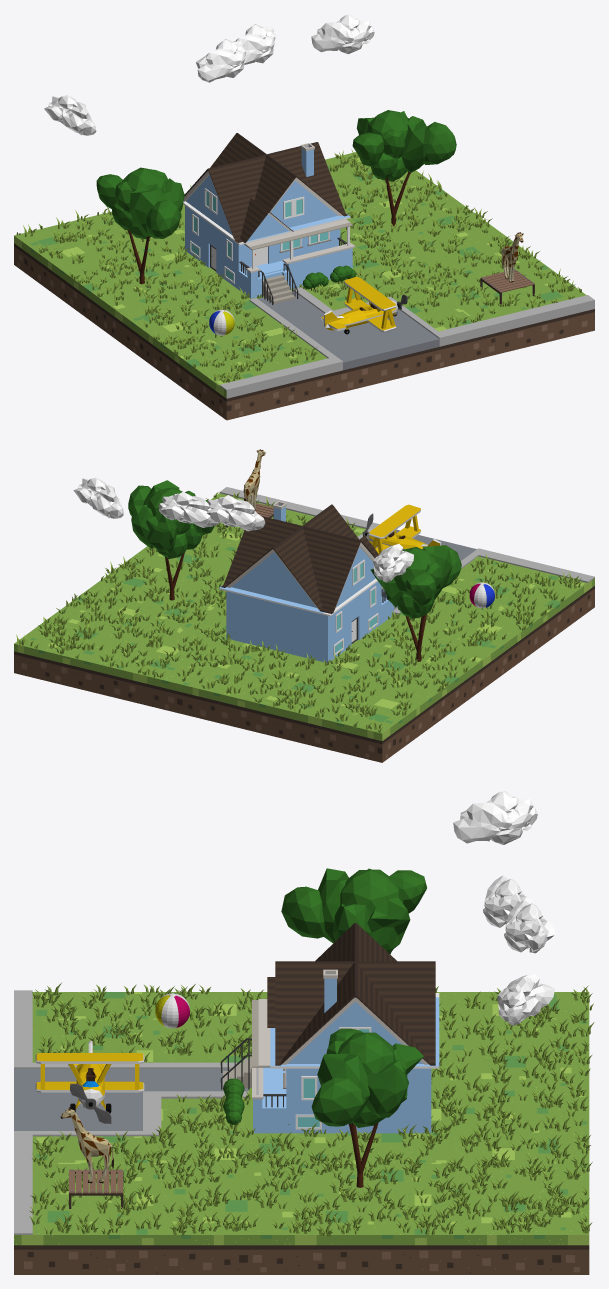
The picture shows the model from 3 angles, top to bottom: view 1: azimuth 30°, elevation 25°; view 2: azimuth 150°, elevation 25°; view 3: azimuth 270°, elevation 25°; orthographic projection. The views are drawn at different scales.
Parts seen in each view (by area): view 1: Cube.006, Cube.1594, Circle.012_Grass_0.192, Cube.007, tree, tree.001, VEHICLES_AIRPLANE, Cube.009, ANIMAL_JIRAFA, OBJRANDOM_BEACHBALL; view 2: Cube.006, Cube.1594, Circle.012_Grass_0.192, Cube.007, tree.001, tree, VEHICLES_AIRPLANE, ANIMAL_JIRAFA, OBJRANDOM_BEACHBALL; view 3: Cube.006, Circle.012_Grass_0.192, Cube.1594, tree, Cube.007, tree.001, VEHICLES_AIRPLANE, Cube.009, ANIMAL_JIRAFA, OBJRANDOM_BEACHBALL.
Part boxes in pixels (left/top/right/bottom): Cube.006: left=14, top=152, right=594, bottom=420; Cube.1594: left=183, top=133, right=355, bottom=304; Circle.012_Grass_0.192: left=16, top=149, right=581, bottom=382; Cube.007: left=44, top=14, right=374, bottom=135; tree: left=352, top=110, right=456, bottom=226; tree.001: left=96, top=167, right=184, bottom=284; VEHICLES_AIRPLANE: left=321, top=276, right=407, bottom=334; Cube.009: left=480, top=269, right=534, bottom=303; ANIMAL_JIRAFA: left=501, top=232, right=523, bottom=282; OBJRANDOM_BEACHBALL: left=209, top=309, right=234, bottom=335; Cube.006: left=14, top=487, right=594, bottom=762; Cube.1594: left=219, top=501, right=393, bottom=662; Circle.012_Grass_0.192: left=16, top=492, right=581, bottom=732; Cube.007: left=73, top=477, right=413, bottom=582; tree.001: left=370, top=545, right=461, bottom=661; tree: left=128, top=480, right=214, bottom=600; VEHICLES_AIRPLANE: left=362, top=504, right=442, bottom=554; ANIMAL_JIRAFA: left=243, top=449, right=265, bottom=509; OBJRANDOM_BEACHBALL: left=469, top=582, right=494, bottom=608; Cube.006: left=14, top=990, right=589, bottom=1274; Circle.012_Grass_0.192: left=29, top=983, right=594, bottom=1236; Cube.1594: left=220, top=923, right=439, bottom=1133; tree: left=311, top=1028, right=423, bottom=1187; Cube.007: left=453, top=791, right=554, bottom=1025; tree.001: left=281, top=868, right=426, bottom=954; VEHICLES_AIRPLANE: left=35, top=1040, right=144, bottom=1123; Cube.009: left=69, top=1169, right=123, bottom=1208; ANIMAL_JIRAFA: left=60, top=1107, right=113, bottom=1183; OBJRANDOM_BEACHBALL: left=155, top=993, right=189, bottom=1028.
Bounding box in the file's own units: 4071 × 2153 × 4040.
45 materials, 3 textured.
